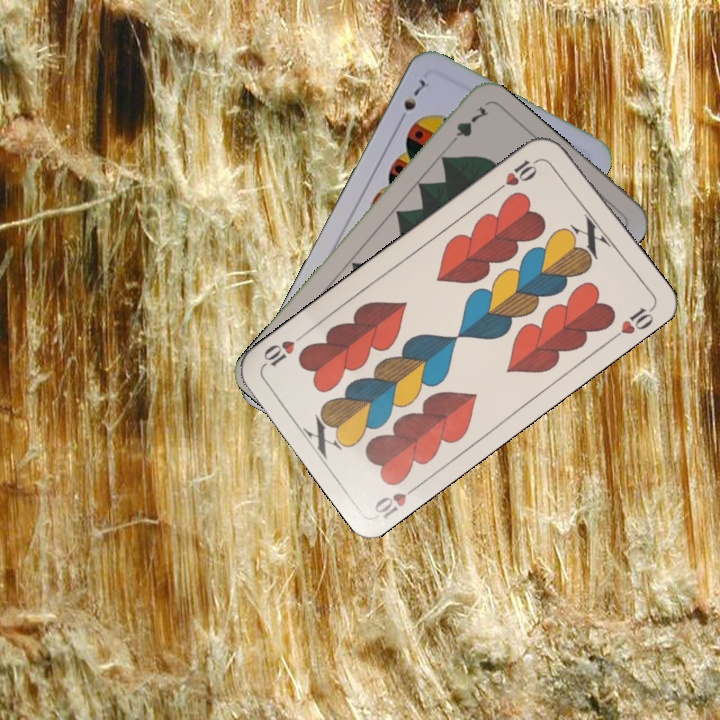G7: (443, 101, 492, 151)
H10: (370, 479, 424, 521), (492, 154, 543, 195)
S7: (394, 75, 429, 127)
